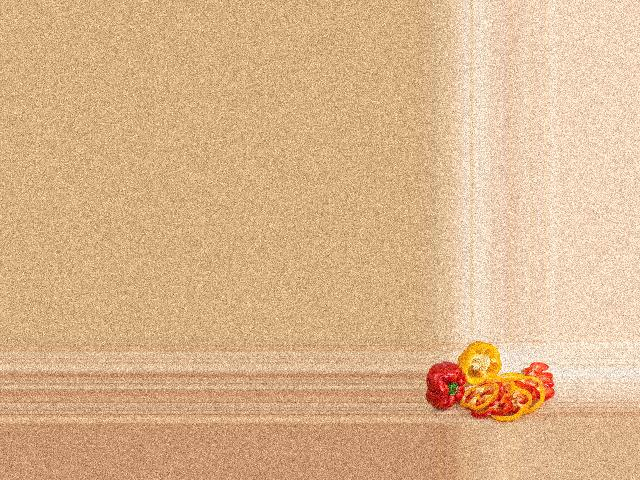bell_pepper: (459, 339, 503, 384)
